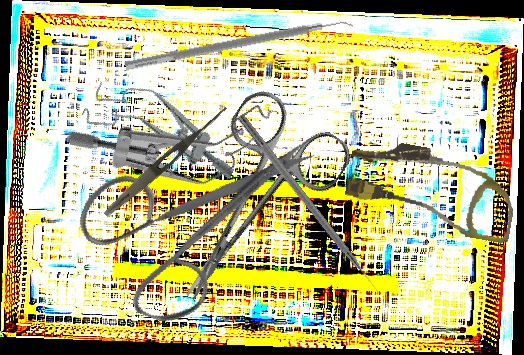Cannula: (341, 134, 522, 245)
Dressing Forceps: (100, 101, 231, 221)
Hook Surgical: (235, 113, 383, 299)
Iris Scissors: (56, 76, 320, 352), (135, 82, 358, 330)
Spatula Surgical: (124, 13, 355, 81)
Speculum: (63, 41, 291, 237), (79, 66, 250, 191)
